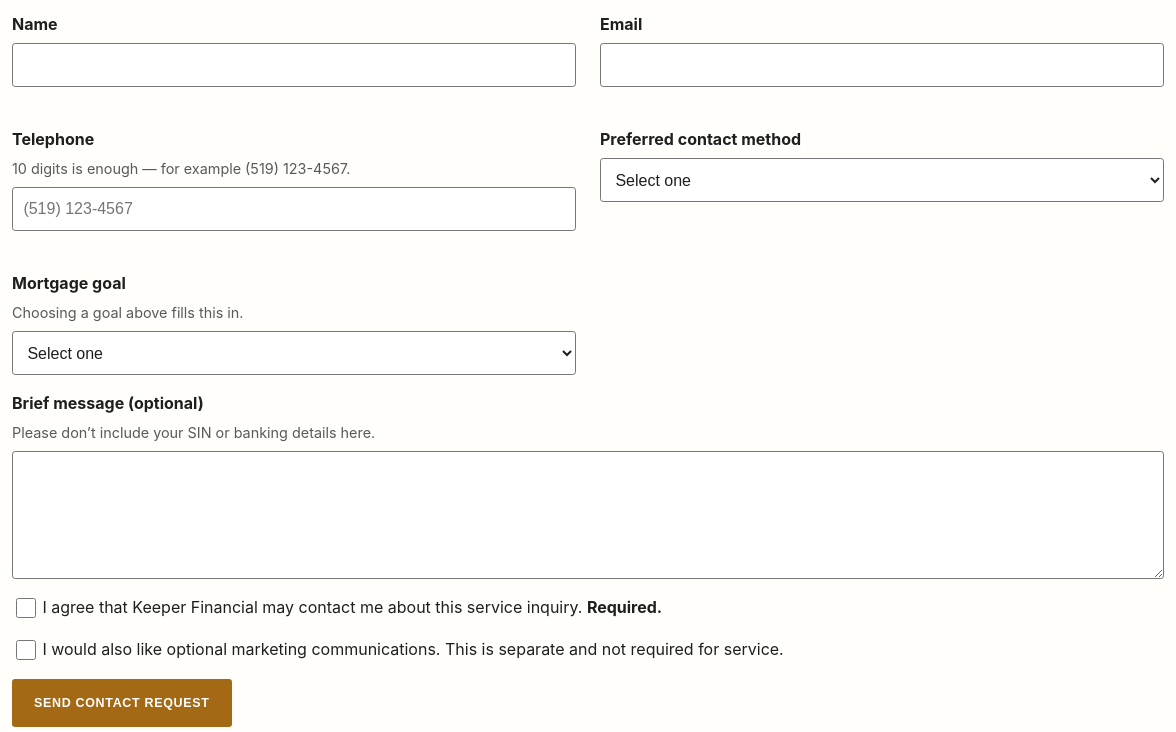
Test: minimal contact form › submits safe attribution as hidden controlled data and resets only on success
The image size is (1176, 732).
Type "Synthetic Visitor" into the field labelled "Name".
click(294, 65); type("Synthetic Visitor")  # box [12,43,576,87]
Type "visitor@example.com" into the field labelled "Email".
click(882, 65); type("visitor@example.com")  # box [600,43,1164,87]
Type "+1 416 555 0100" into the field labelled "Telephone".
click(294, 209); type("+1 416 555 0100")  # box [12,187,576,231]
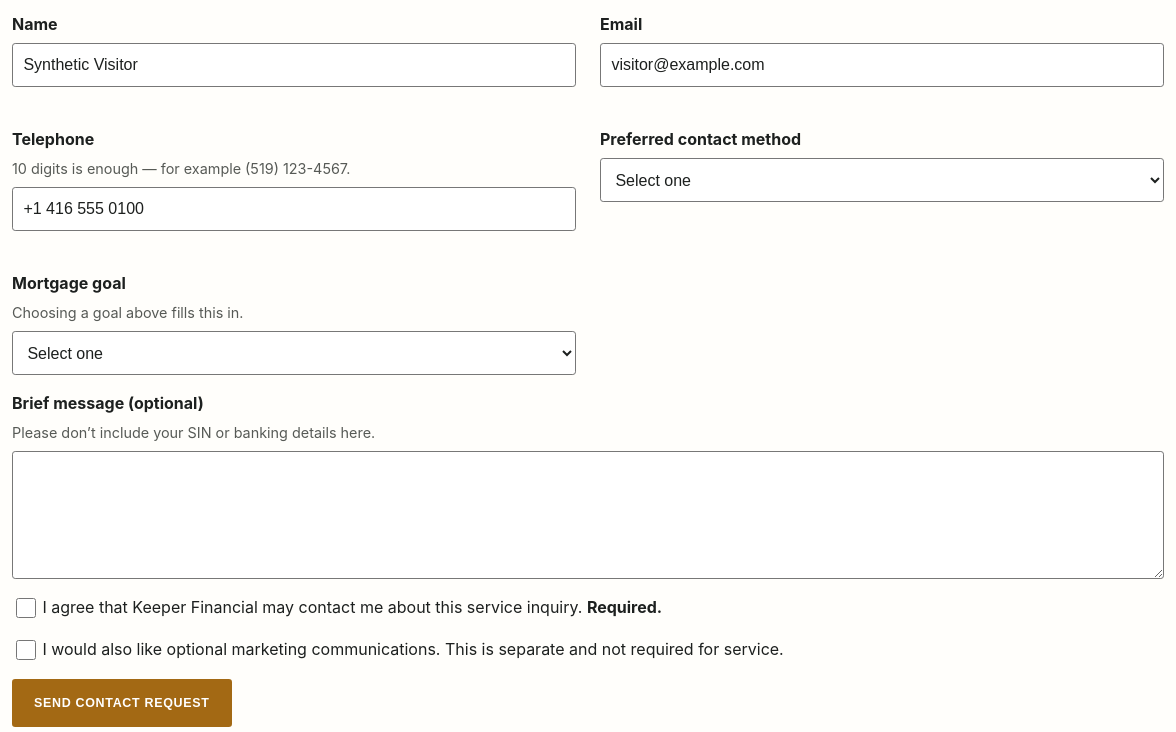
Select "Email" in the dropdown labelled "Preferred contact method" at coordinates (882, 180), box [600,158,1164,202]
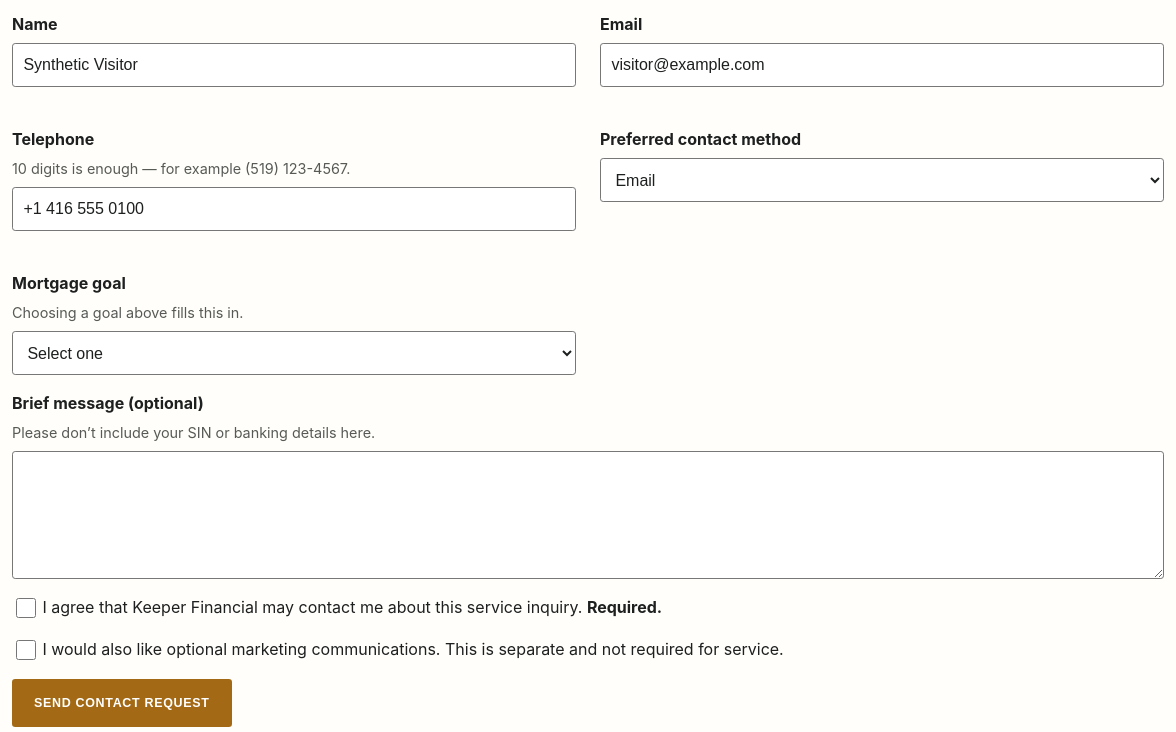
Select "Renewal" in the dropdown labelled "Mortgage goal" at coordinates (294, 353), box [12,331,576,375]
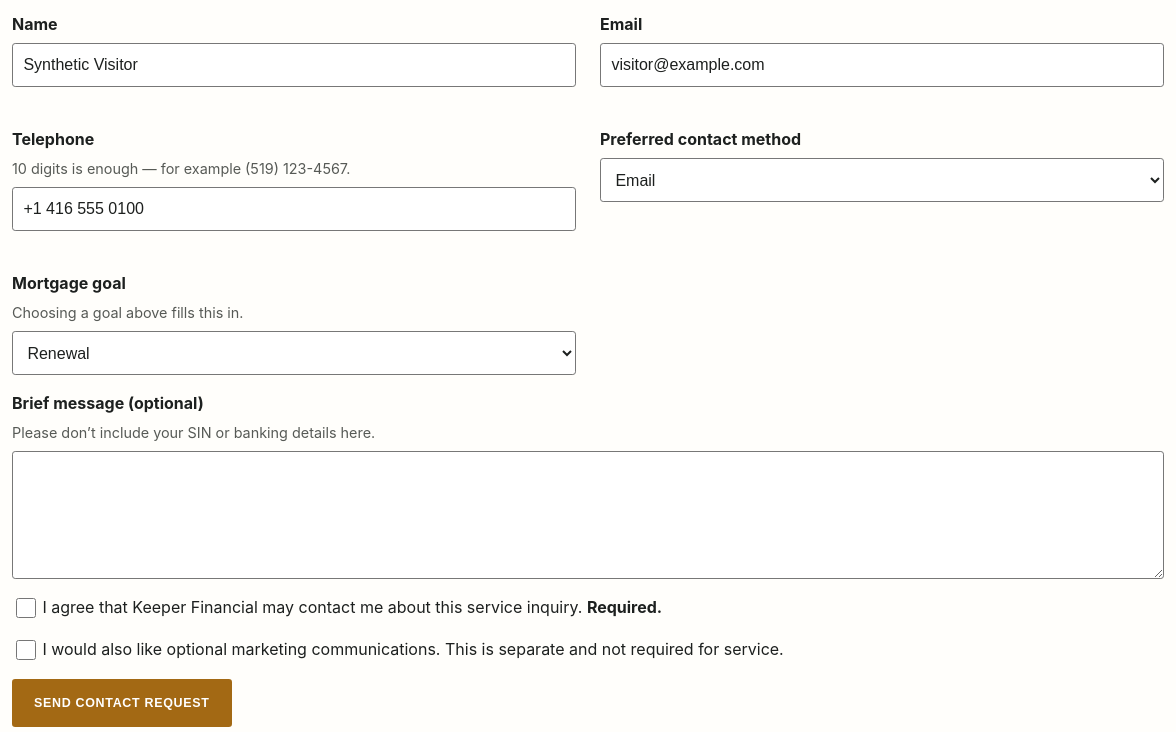
Click the checkbox labelled "I agree that Keeper Financial may contact me".
click(26, 608)  # box [16,598,36,618]
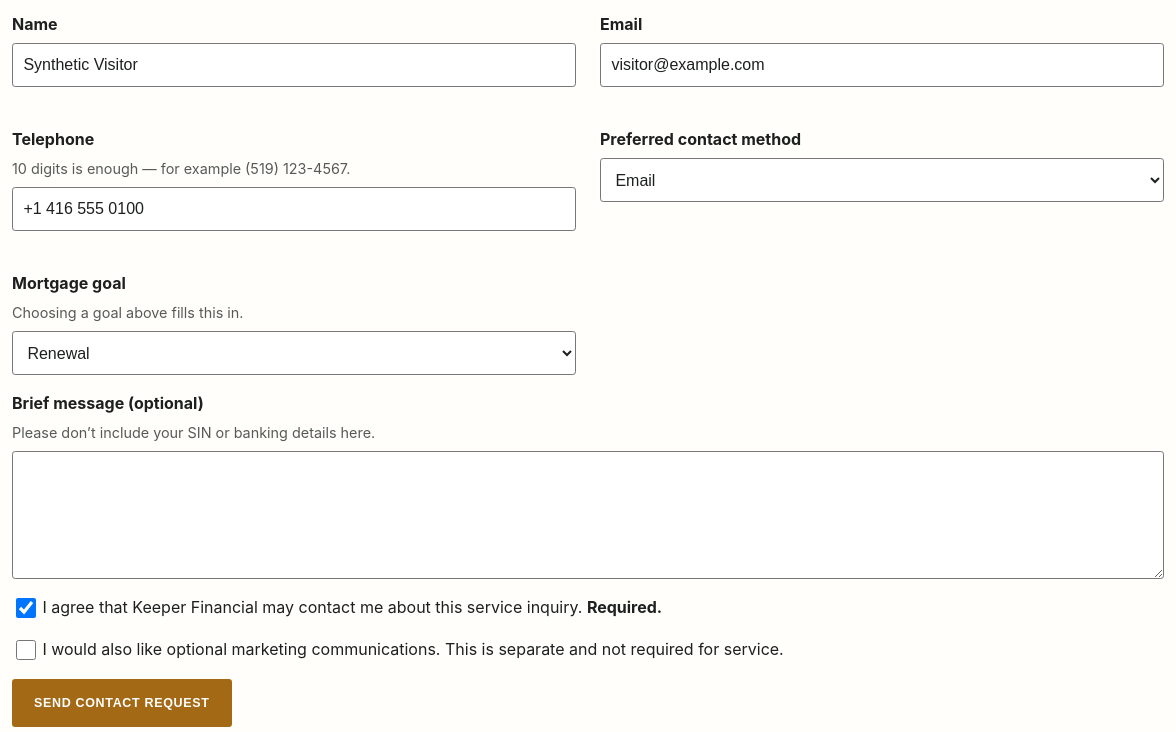
Type "Please call next week." into the text box labelled "Brief message (optional)".
click(588, 515); type("Please call next week.")  # box [12,451,1164,579]
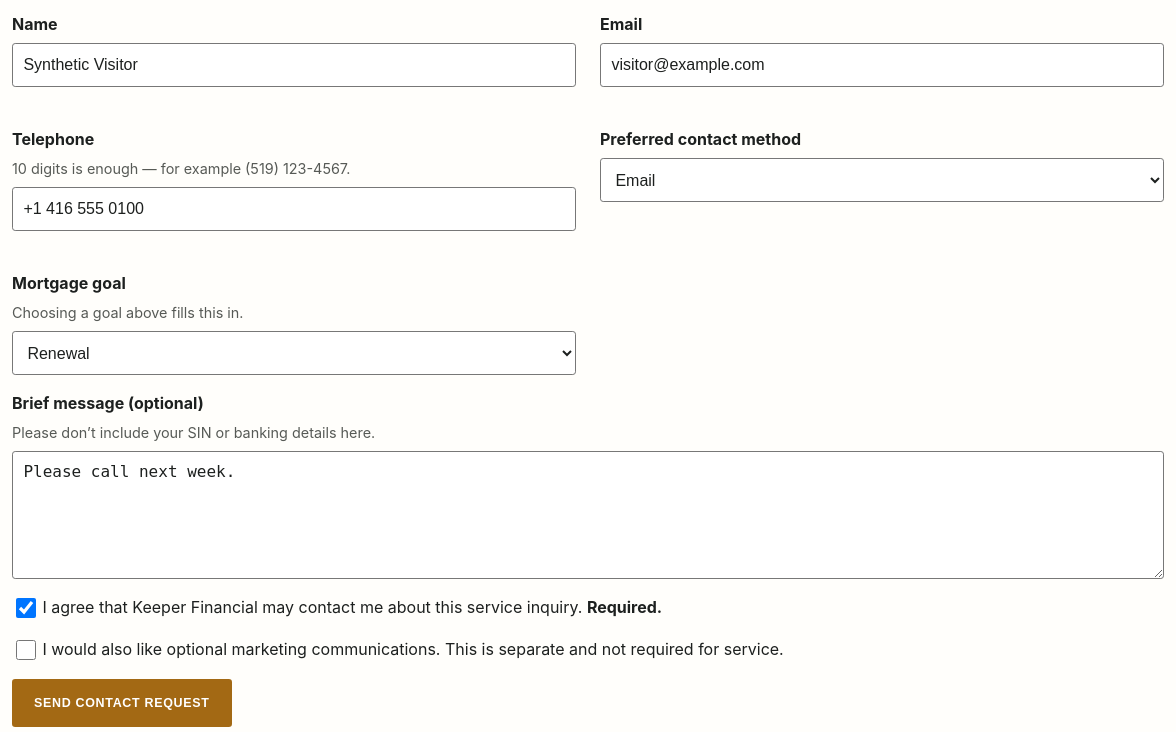
Submit the form
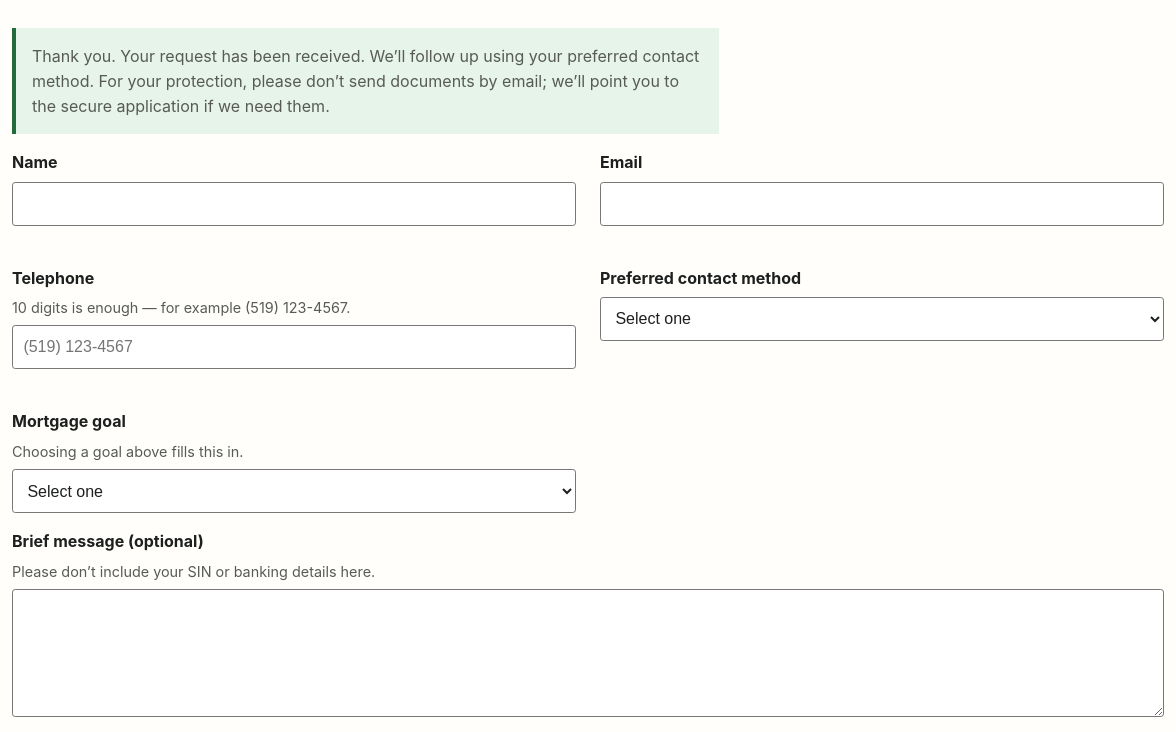
Expected: the message is shown, [12,28,719,134]
Expected: the field labelled "Name" is empty, [12,182,576,226]
